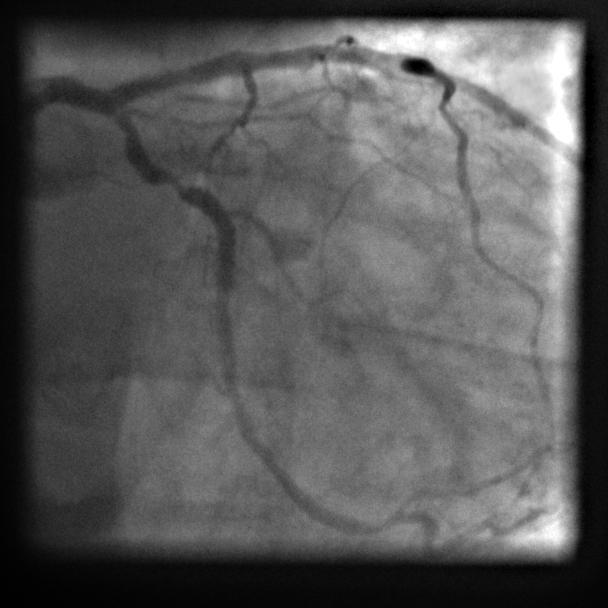Stenosis: (163, 169, 189, 196)
